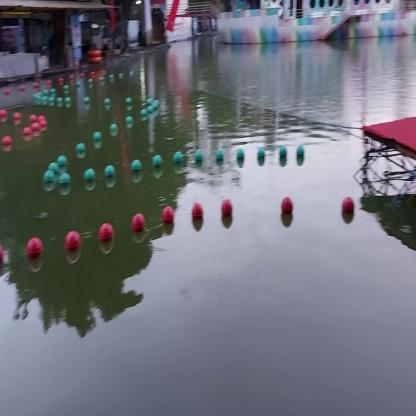green_buoy: (278, 145, 289, 165), (85, 168, 97, 186), (78, 140, 88, 160), (60, 170, 70, 189), (173, 151, 184, 168), (256, 147, 266, 165), (111, 120, 120, 139), (194, 149, 204, 166), (294, 146, 303, 164), (46, 172, 55, 190), (132, 158, 142, 174), (107, 165, 116, 182), (215, 151, 225, 166), (153, 155, 162, 171), (125, 114, 134, 128), (94, 130, 102, 145), (236, 149, 244, 164), (59, 155, 67, 169)
red_buoy: (26, 237, 43, 268), (101, 226, 115, 254), (66, 234, 82, 256), (222, 196, 234, 223), (280, 195, 294, 218), (132, 216, 146, 236), (342, 196, 354, 218), (161, 207, 174, 226), (2, 136, 13, 155), (193, 206, 202, 224), (40, 116, 48, 132), (23, 124, 31, 140), (34, 122, 40, 138)
